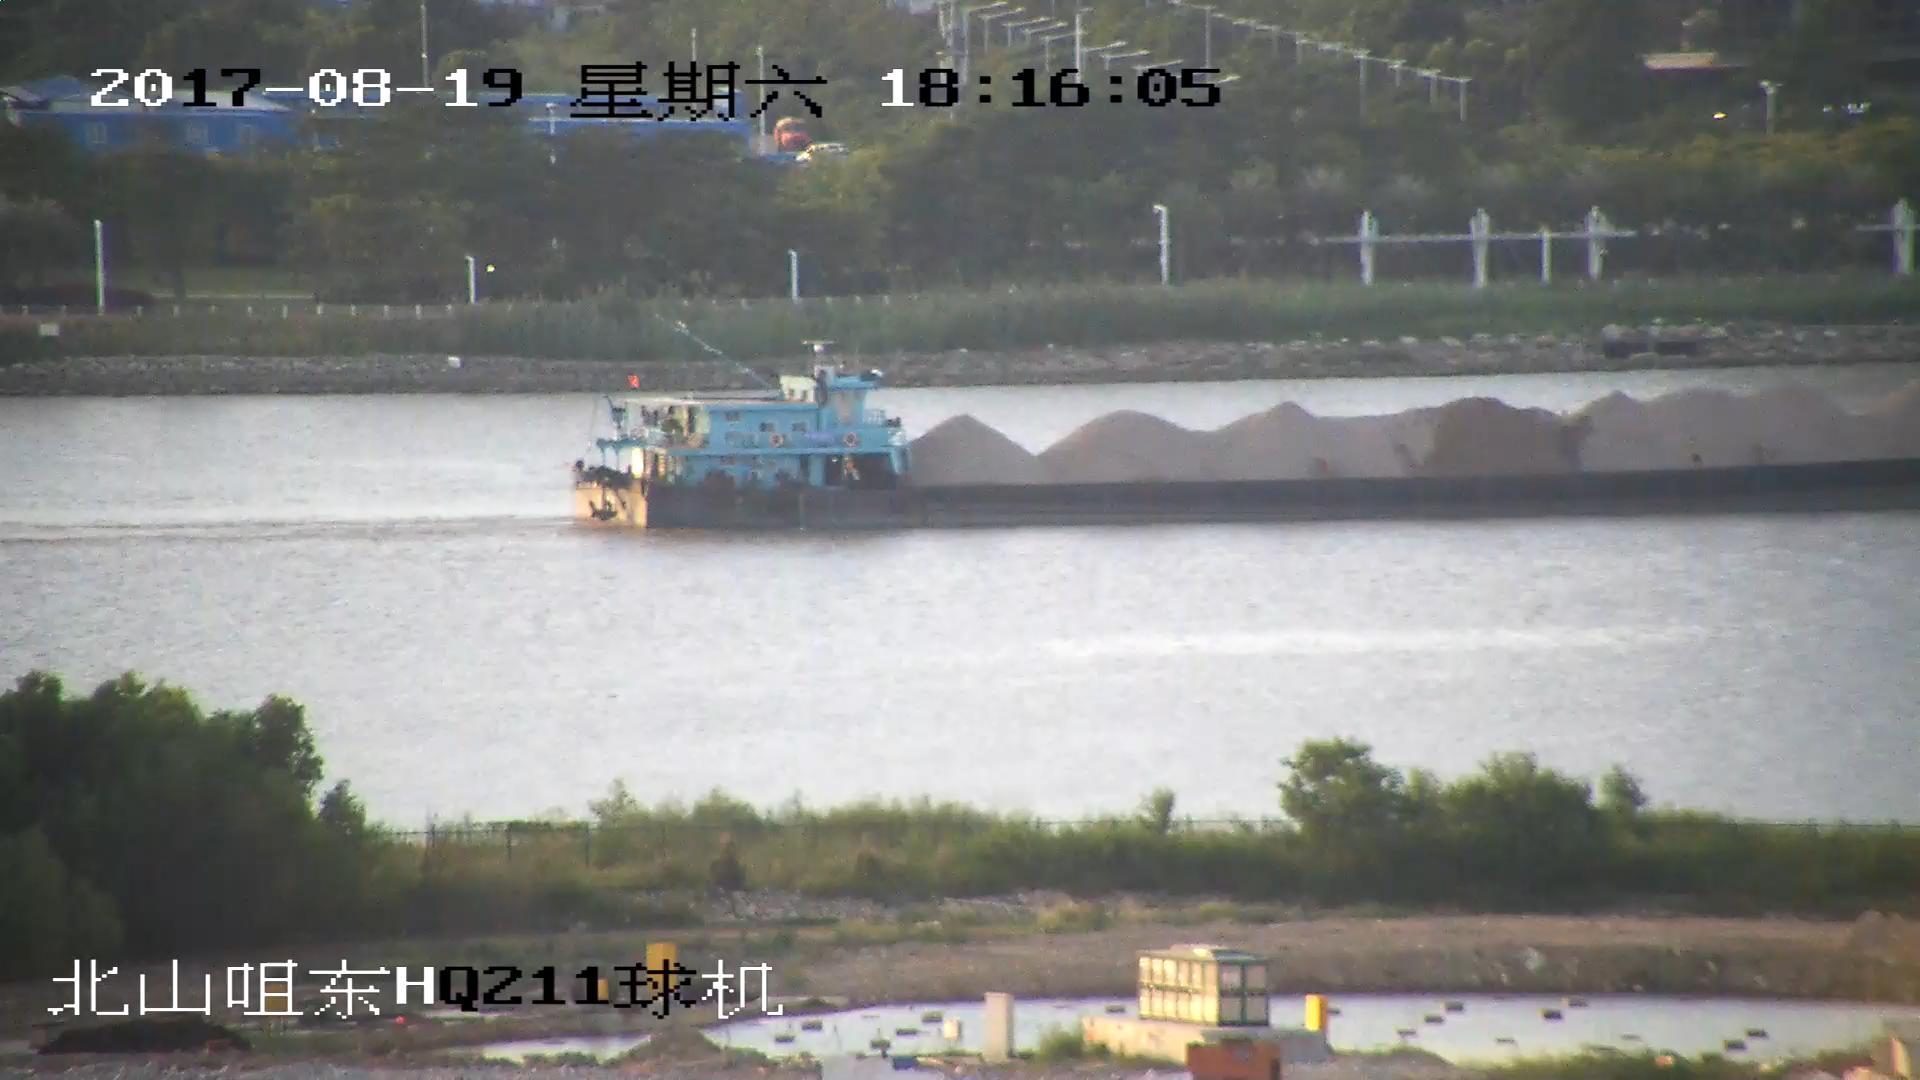Ship: (567, 345, 1920, 534)
